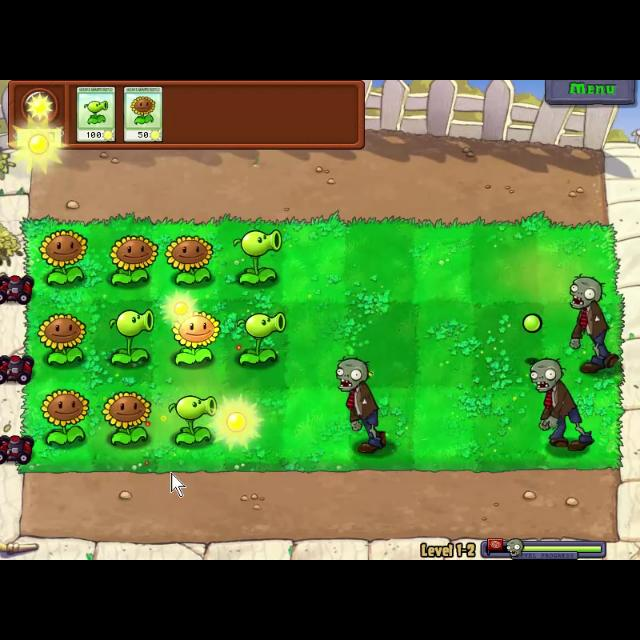Garden: (17, 218, 625, 474)
Menu Button: (544, 80, 636, 108)
Mower: (0, 353, 38, 387), (1, 272, 36, 306), (0, 432, 34, 464)
Peashooter: (76, 84, 115, 144)
Peashooter Seed: (105, 308, 155, 370), (233, 223, 283, 283), (233, 308, 284, 366), (166, 393, 216, 449)
Seed Panel: (7, 80, 370, 154)
Sun: (7, 116, 71, 178), (209, 397, 265, 453), (162, 292, 196, 322)
Sunflower: (122, 86, 164, 142)
Sunflower Seed: (164, 308, 223, 374), (34, 224, 92, 288), (34, 310, 90, 368), (105, 232, 161, 288), (98, 389, 154, 445), (38, 388, 88, 448), (164, 234, 216, 286)
Zombie: (526, 358, 598, 456), (334, 355, 392, 455), (566, 274, 620, 374)
